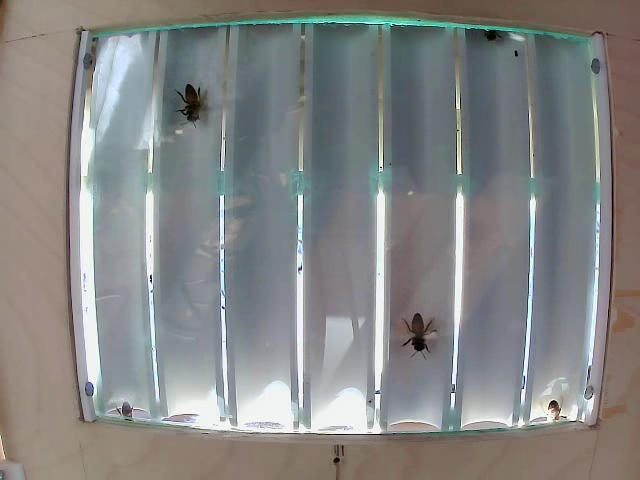bee: (175, 88, 224, 148), (398, 306, 439, 355)
